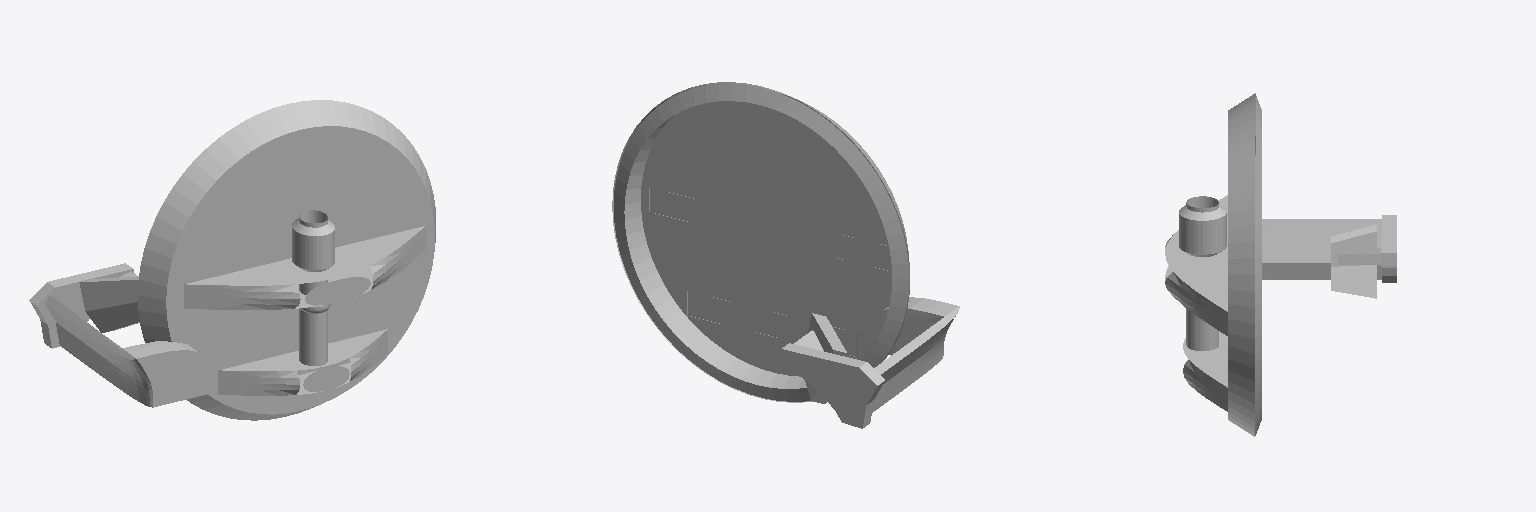
Rendered from hub_right.obj.
3 renders of one model, left to right at view 1: azimuth 30°, elevation 25°; view 2: azimuth 150°, elevation 25°; view 3: azimuth 270°, elevation 25°, orthographic.
Visible parts, largest first — view 1: hub_right; view 2: hub_right; view 3: hub_right.
Part boxes in pixels (x1,y1,x2,y2): hub_right: (29,100,435,420); hub_right: (612,82,959,428); hub_right: (1165,93,1396,436).
Bounding box in the file's own units: 1.32 × 1.18 × 0.7999.